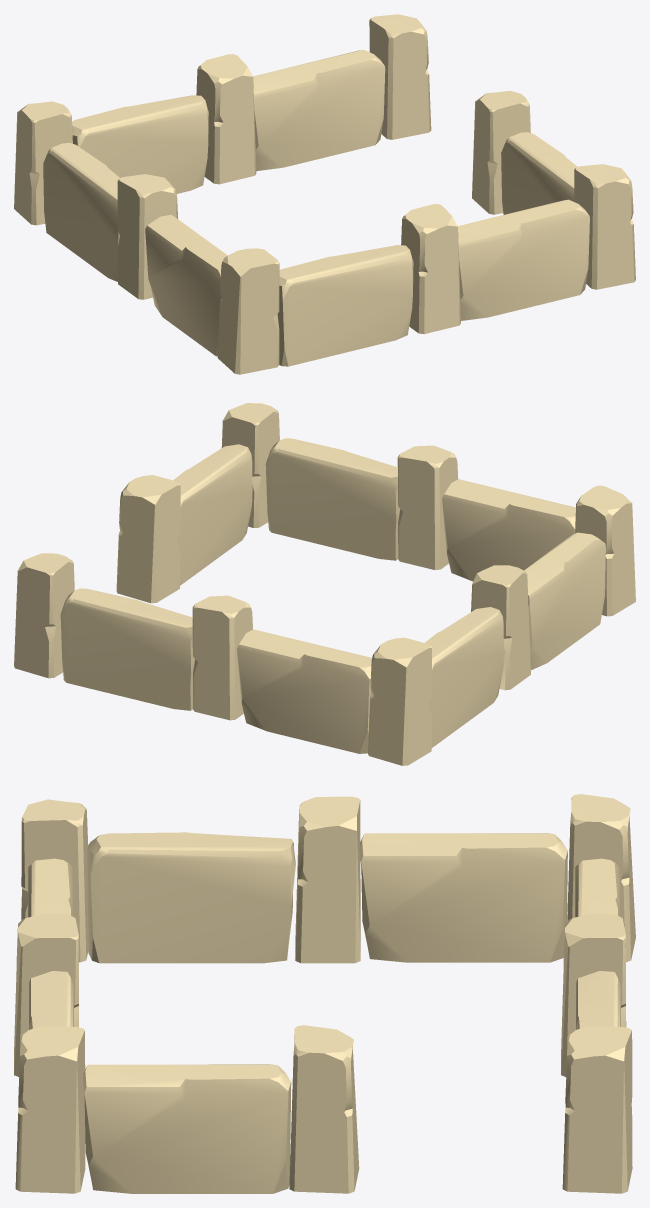
The model's file is Module_Garden_Bed.fbx.
3 renders of one model, top to bottom at view 1: azimuth 30°, elevation 25°; view 2: azimuth 150°, elevation 25°; view 3: azimuth 270°, elevation 25°, orthographic. The views are drawn at different scales.
Parts seen in each view (by area): view 1: Module_Garden_Bed_Geometry; view 2: Module_Garden_Bed_Geometry; view 3: Module_Garden_Bed_Geometry.
Part boxes in pixels (bbox=[...]): Module_Garden_Bed_Geometry: bbox=[14, 14, 635, 374]; Module_Garden_Bed_Geometry: bbox=[14, 403, 635, 765]; Module_Garden_Bed_Geometry: bbox=[14, 794, 635, 1193].
Size of the model in its own units: 7.36 by 1.93 by 7.42.
